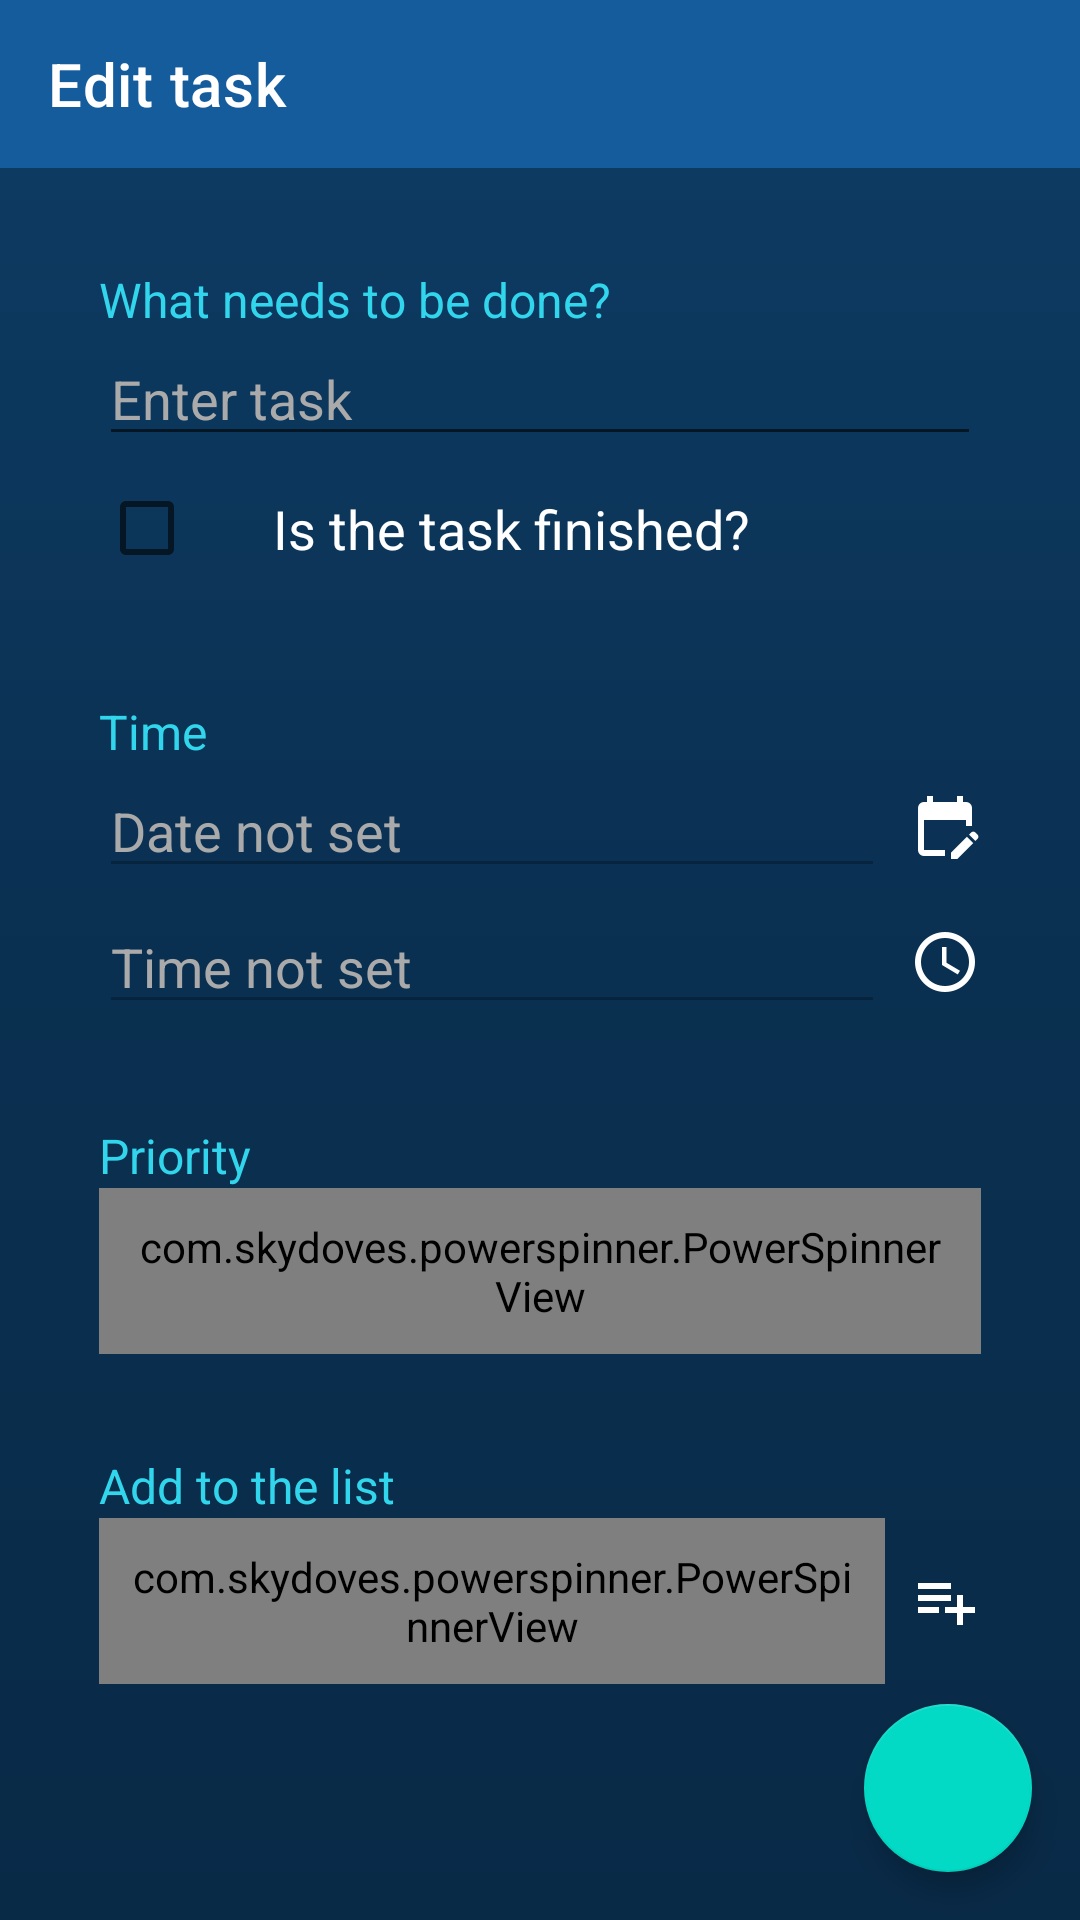

Screen size 1080 × 1920. Icon name, then its center in pixels as (x,y):
access time: (945,962)
edit calendar: (948,827)
playlist add: (946,1604)
